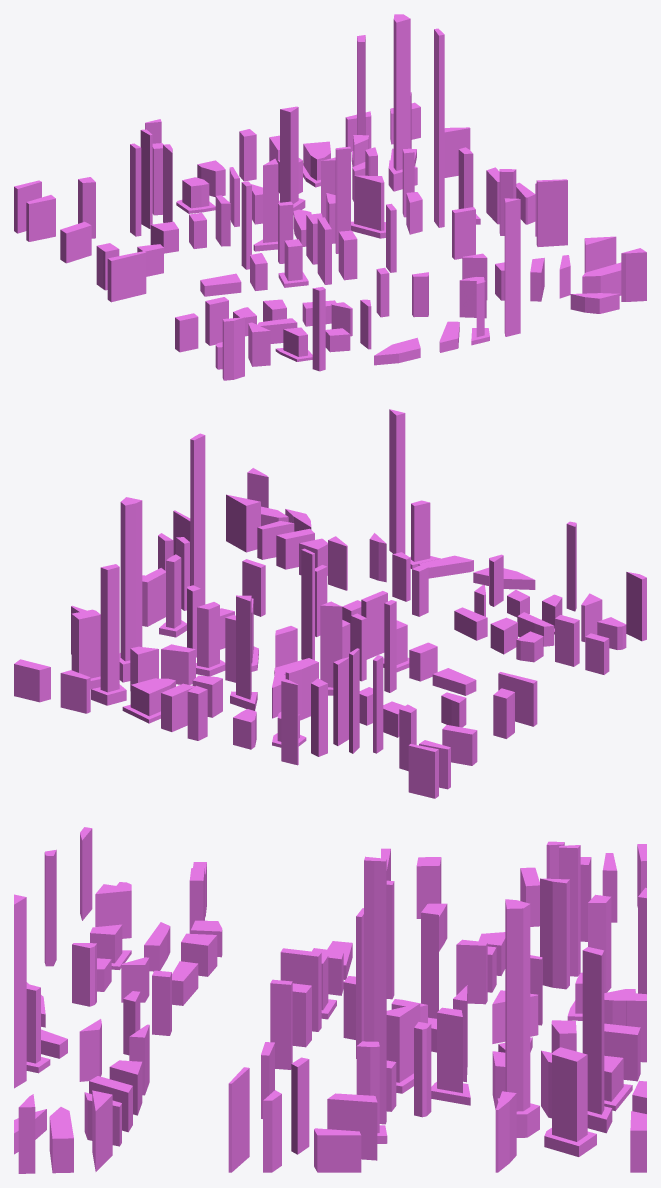
File: buildings_00054.obj
3 renders of one model, top to bottom at view 1: azimuth 30°, elevation 25°; view 2: azimuth 150°, elevation 25°; view 3: azimuth 270°, elevation 25°, orthographic. The views are drawn at different scales.
Bounding box in the file's own units: 1468 × 669 × 1460.
